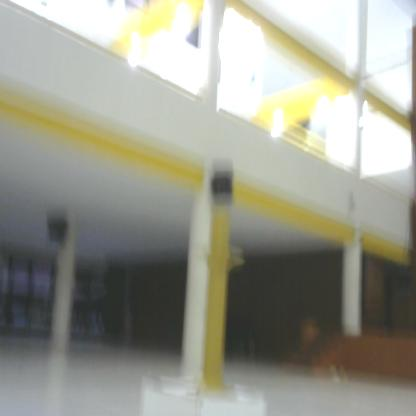pole: (181, 216, 251, 411)
